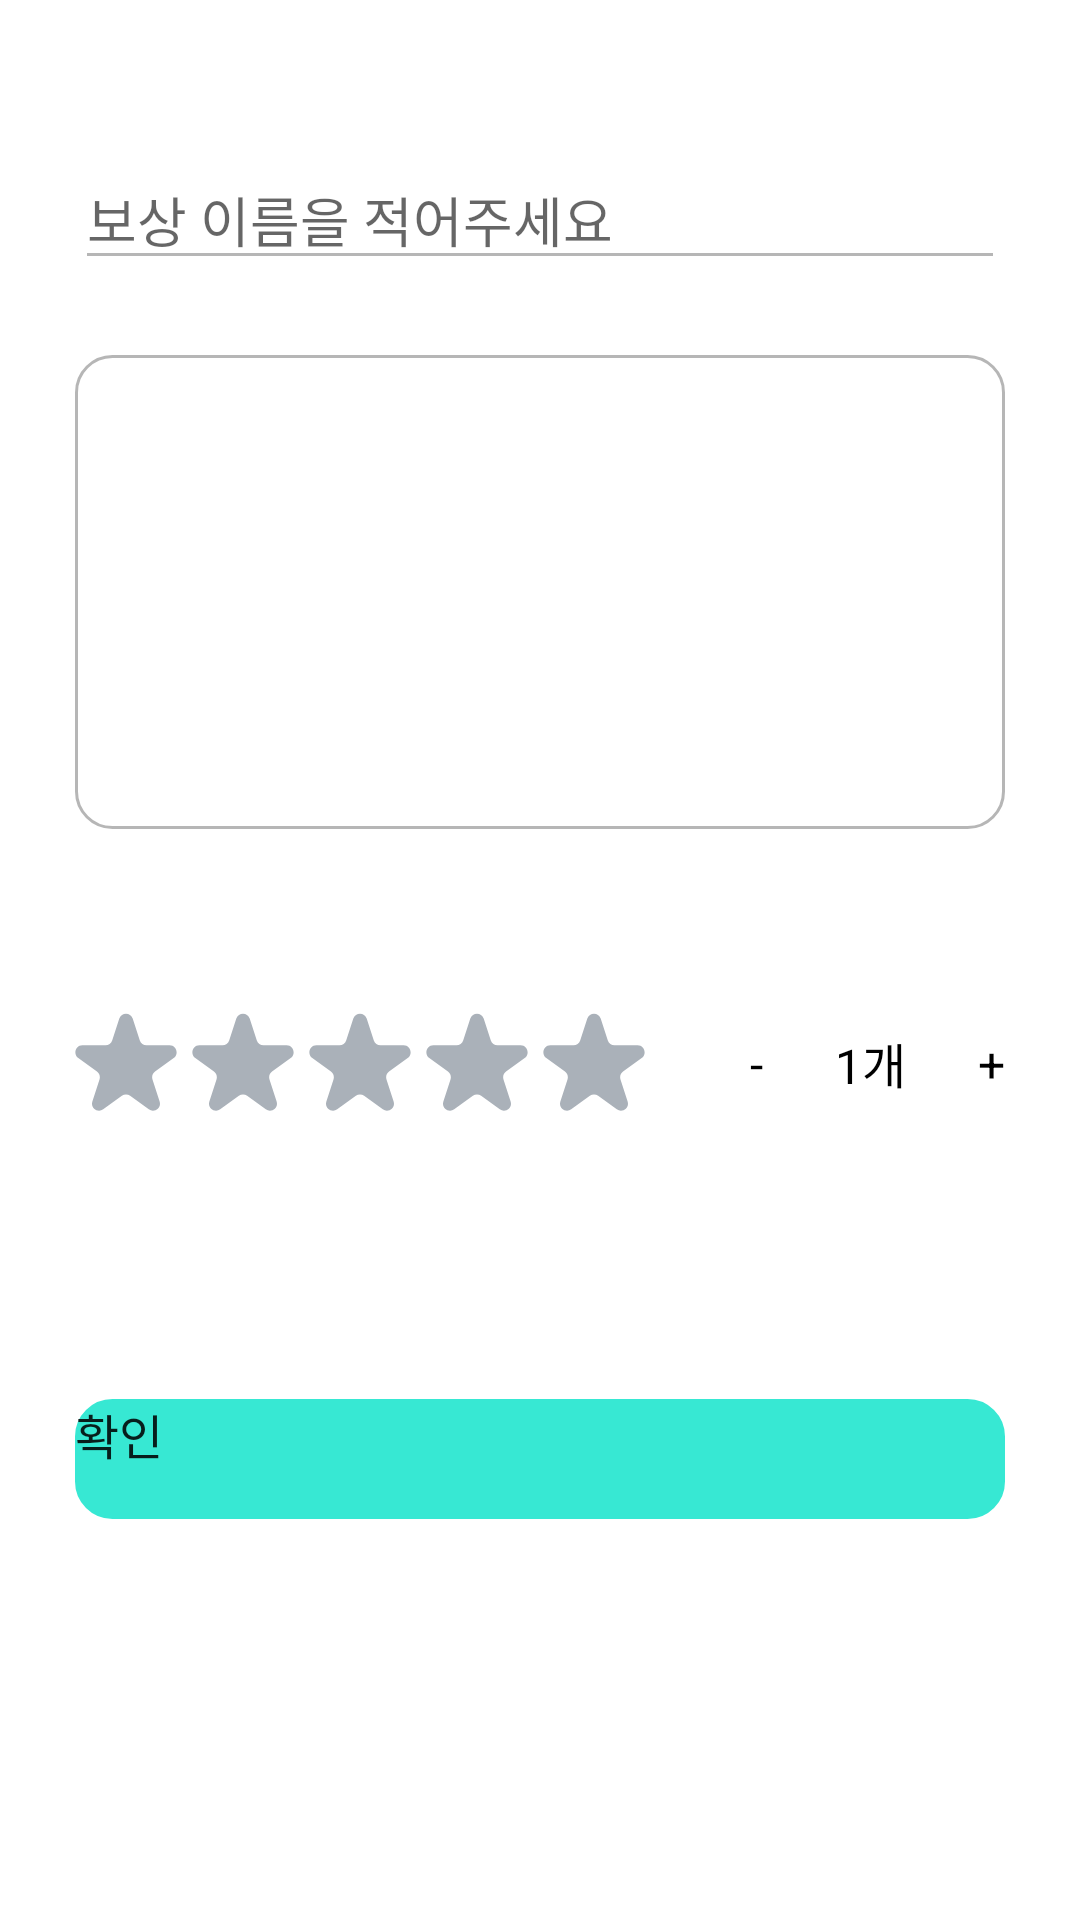

Icons on this 1080*1920 Android screen, each with its box as detection(x1, y1, x2, y2):
star: detection(75, 1014, 177, 1111), detection(192, 1014, 294, 1111), detection(309, 1014, 411, 1111), detection(426, 1014, 528, 1111), detection(543, 1014, 645, 1111)
